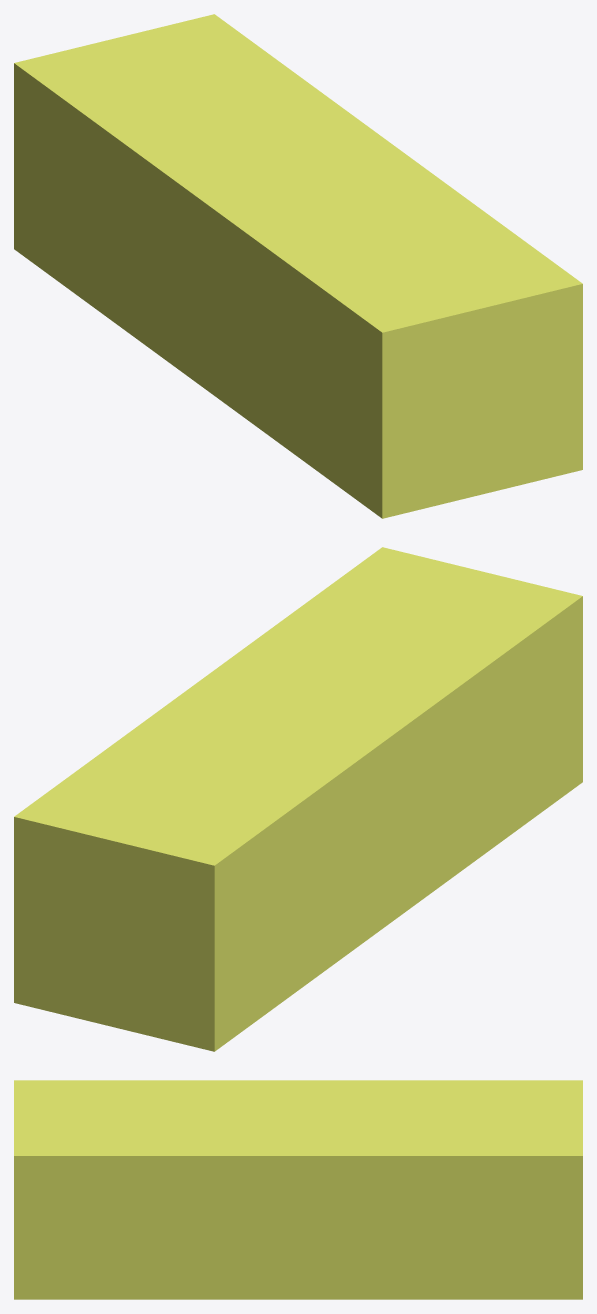
Rendered from Little Obstacle.fbx.
The picture shows the model from 3 angles, top to bottom: view 1: azimuth 30°, elevation 25°; view 2: azimuth 150°, elevation 25°; view 3: azimuth 270°, elevation 25°; orthographic projection. The views are drawn at different scales.
Parts seen in each view (by area): view 1: Box021; view 2: Box021; view 3: Box021.
Boxes of the visible parts, x1,y1,x2,y2 form: Box021: (14,14,582,518); Box021: (14,547,582,1051); Box021: (14,1080,582,1299).
Size of the model in its own units: 5.14 by 4.55 by 16.34.
